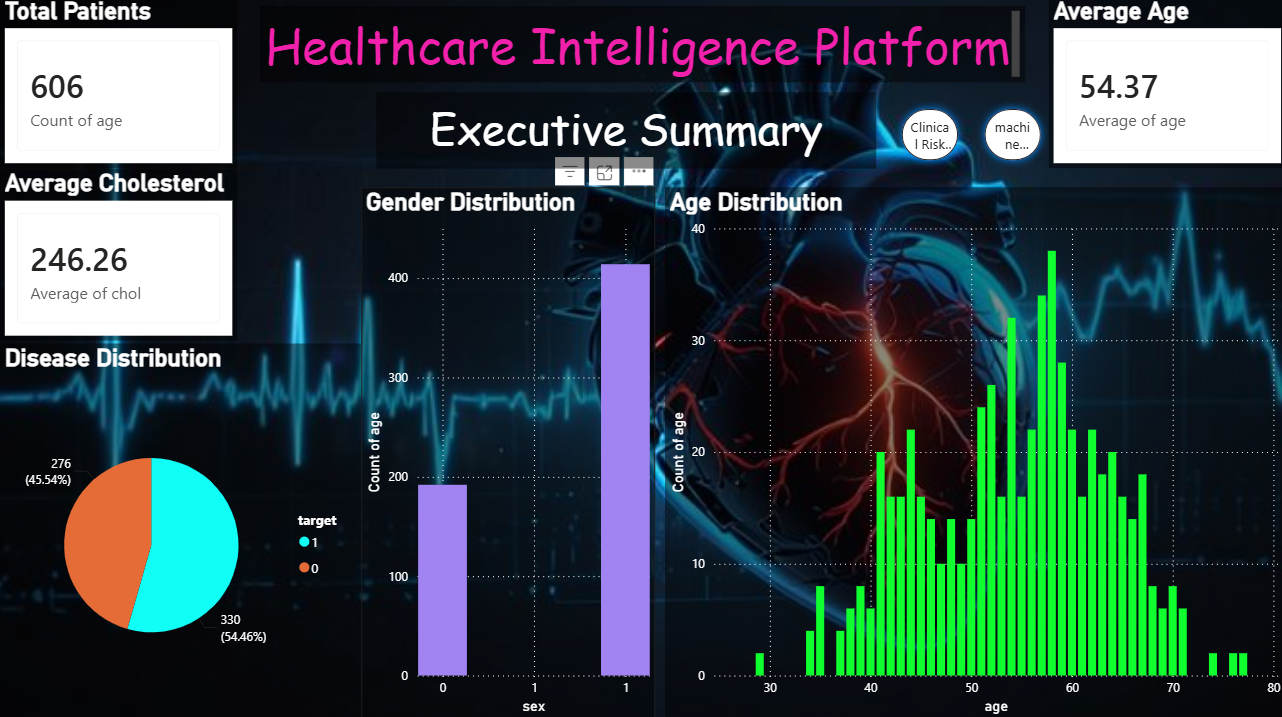

What the dashboard file says about the page in this screenshot:
{"tool":"powerbi","page":{"name":"Executive Summary","canvas":[1280,720],"ordinal":0},"visuals":[{"type":"cardVisual","title":"Total Patients","fields":{"Data":["CountNonNull(heart_disease_dashboard.age)"]},"box":[0,0,236,171.5],"z":0},{"type":"cardVisual","title":"Average Age","fields":{"Data":["Avg(heart_disease_dashboard.age)"]},"box":[1044.3,0,236,171.5],"z":1000},{"type":"cardVisual","title":"Average Cholesterol","fields":{"Data":["Avg(heart_disease_dashboard.chol)"]},"box":[0,171.5,236,171.5],"z":2000},{"type":"pieChart","title":"Disease Distribution","fields":{"Category":["heart_disease_dashboard.target"],"Y":["CountNonNull(heart_disease_dashboard.target)"]},"box":[0,345.8,359.5,374.6],"z":3000},{"type":"clusteredColumnChart","title":"Gender Distribution","fields":{"Category":["heart_disease_dashboard.sex"],"Y":["CountNonNull(heart_disease_dashboard.age)"]},"box":[359.5,190.3,292.3,529.9],"z":4000},{"type":"clusteredColumnChart","title":"Age Distribution","fields":{"Category":["heart_disease_dashboard.age"],"Y":["CountNonNull(heart_disease_dashboard.age)"]},"box":[661.8,190.3,618.2,529.9],"z":5000},{"type":"textbox","box":[374.4,95.8,497.6,75.9],"z":6000},{"type":"pageNavigator","box":[889.4,104.5,154.3,67.2],"z":7000},{"type":"textbox","box":[258.7,10,761.3,75.9],"z":7001}]}

Visuals, with their boxes in screenshot pixels (x1, y1, x2, y2), scaled from the page's 1280x720 canvas onto the 1282x717 screenshot:
"Total Patients" cardVisual: box=[0, 0, 236, 171]
"Average Age" cardVisual: box=[1046, 0, 1281, 171]
"Average Cholesterol" cardVisual: box=[0, 171, 236, 342]
"Disease Distribution" pieChart: box=[0, 344, 360, 716]
"Gender Distribution" clusteredColumnChart: box=[360, 190, 653, 716]
"Age Distribution" clusteredColumnChart: box=[663, 190, 1281, 716]
textbox: box=[375, 95, 873, 171]
pageNavigator: box=[891, 104, 1045, 171]
textbox: box=[259, 10, 1022, 86]
